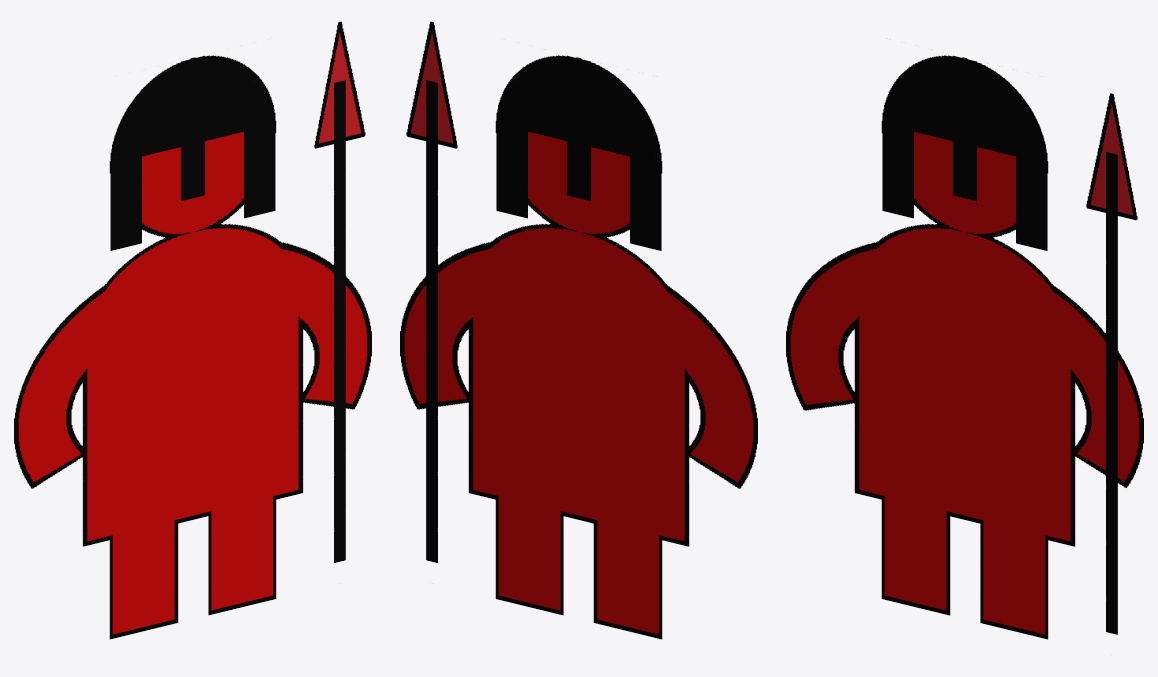
Rendered from Soldier.fbx.
3 renders of one model, left to right at view 1: azimuth 30°, elevation 25°; view 2: azimuth 150°, elevation 25°; view 3: azimuth 330°, elevation 25°, orthographic.
Parts seen in each view (by area): view 1: pPlane3; view 2: pPlane3; view 3: pPlane3.
Boxes of the visible parts, x1,y1,x2,y2 form: pPlane3: (14, 21, 371, 639); pPlane3: (400, 21, 757, 639); pPlane3: (786, 55, 1143, 639).
Size of the model in its own units: 1 by 1.5 by 1.11e-16.
